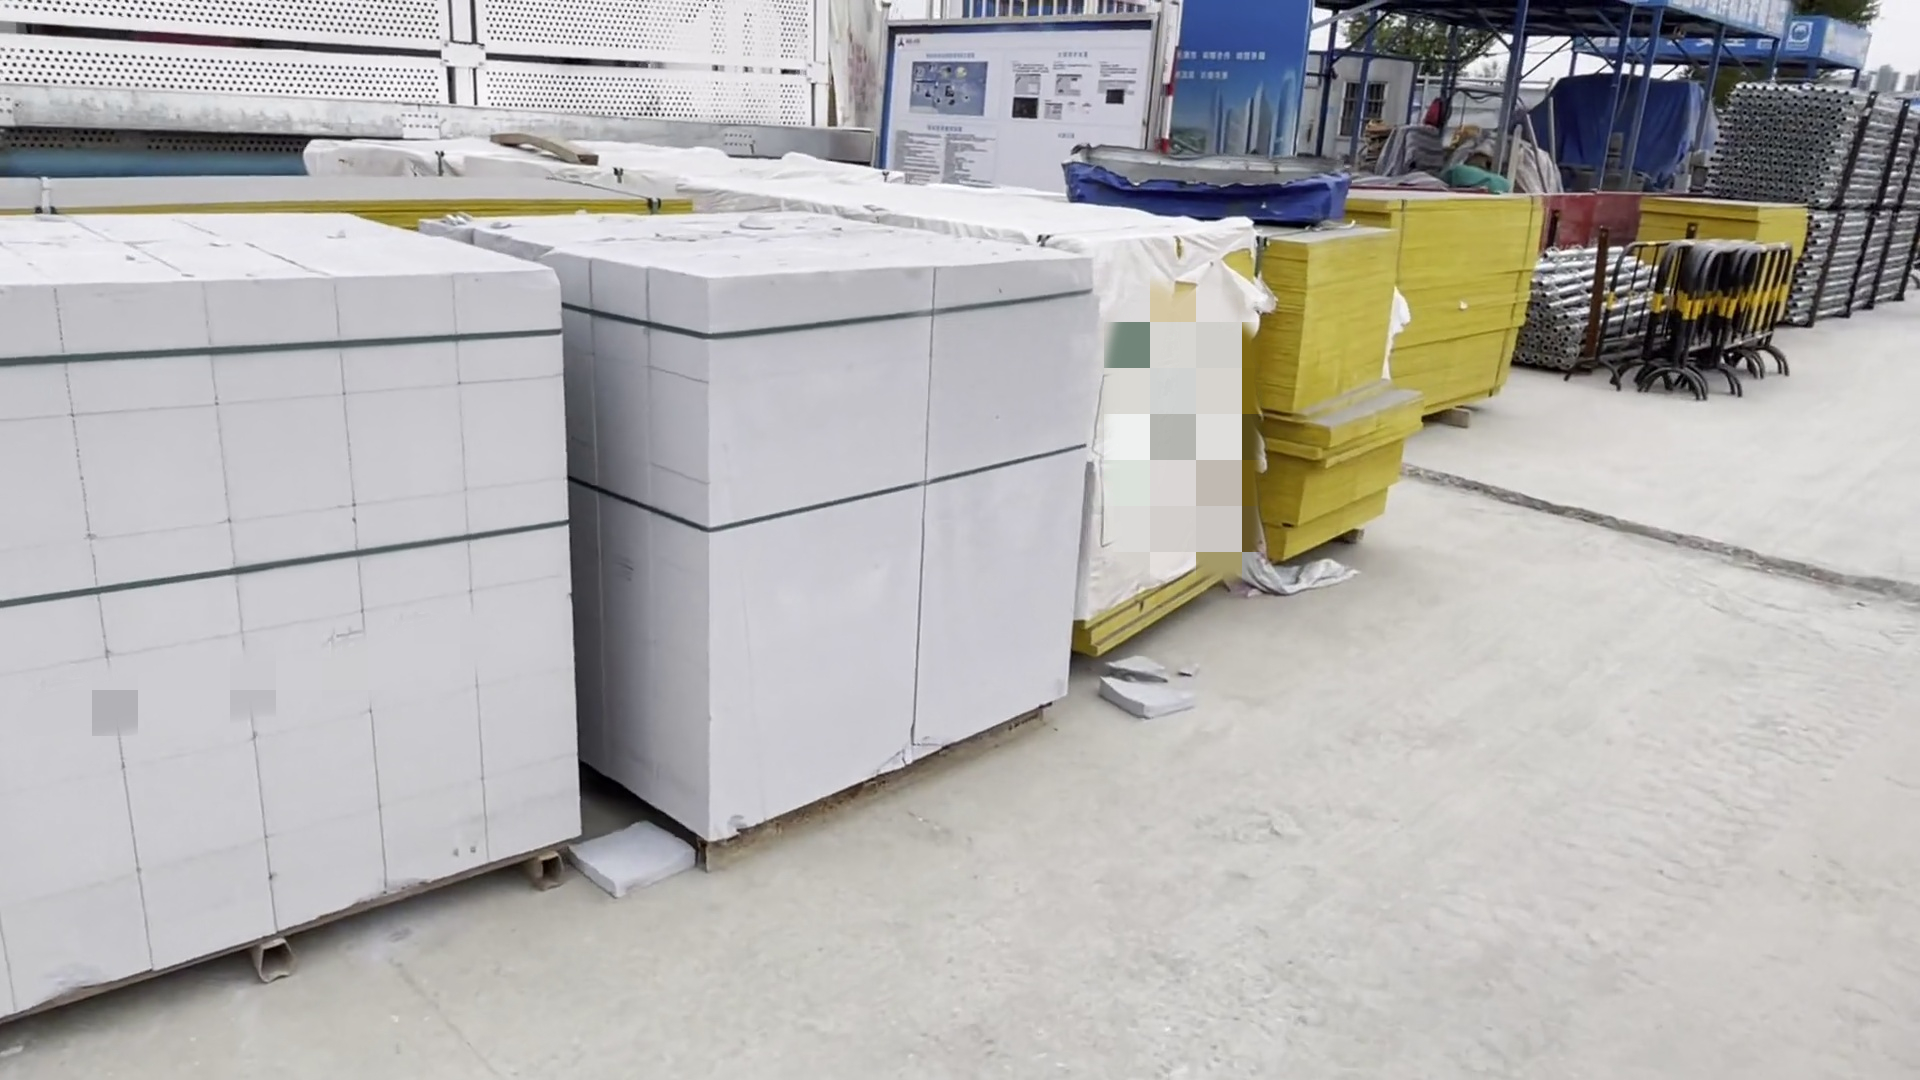board: (1269, 200, 1543, 583)
brick: (3, 222, 575, 1029), (571, 216, 1104, 862)
scaffold: (1727, 83, 1920, 206)
